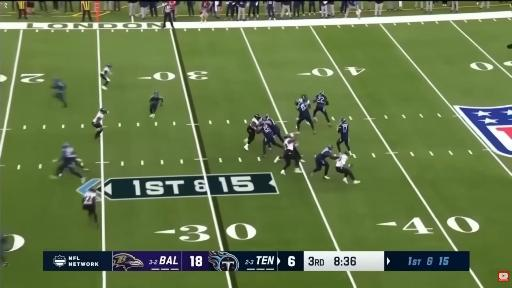Helmet: (253, 114, 262, 121), (301, 94, 308, 102), (344, 150, 351, 157), (341, 117, 347, 124), (327, 144, 334, 150), (295, 99, 301, 106), (284, 135, 292, 140), (102, 108, 107, 114), (261, 121, 266, 127), (90, 188, 97, 192), (319, 91, 326, 95), (265, 115, 270, 120), (63, 143, 69, 147), (154, 92, 158, 97), (107, 63, 111, 67)
Jersey: (259, 122, 273, 138), (265, 118, 279, 134), (316, 148, 332, 161), (315, 94, 328, 110), (296, 102, 309, 115), (62, 147, 76, 159), (83, 191, 95, 205), (338, 123, 348, 139), (52, 80, 65, 92), (336, 154, 347, 167), (93, 112, 104, 125), (284, 138, 295, 150), (150, 95, 163, 104), (250, 118, 259, 129), (102, 67, 110, 76)
Player: (51, 143, 85, 183), (275, 134, 301, 174), (259, 120, 283, 157), (311, 145, 337, 179), (295, 95, 315, 133), (336, 152, 359, 183), (313, 91, 331, 126), (244, 114, 261, 150), (336, 119, 352, 154), (83, 188, 97, 227), (264, 115, 284, 142), (92, 108, 107, 139), (52, 78, 67, 107), (150, 92, 163, 117), (100, 64, 112, 90), (0, 235, 8, 266)
